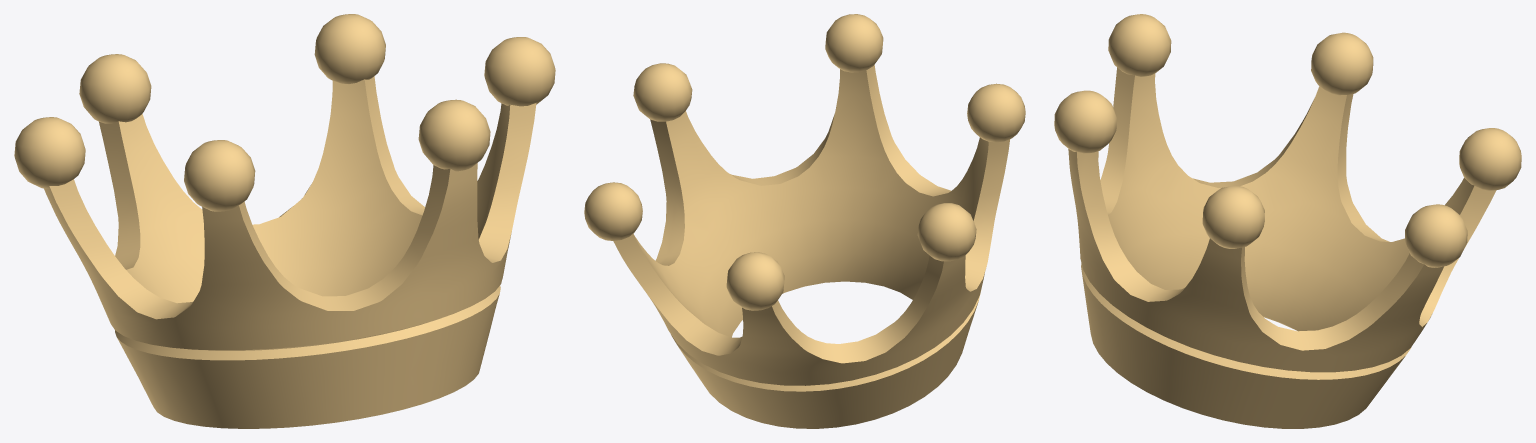
The model's file is Funko_Crown.obj.
3 views of the same model, side by side, from view 1: azimuth 30°, elevation 25°; view 2: azimuth 150°, elevation 25°; view 3: azimuth 270°, elevation 25° (orthographic). The views are drawn at different scales.
Bounding box in the file's own units: 2 × 1.47 × 1.95.
